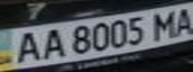0: (109, 17, 133, 50), (90, 20, 112, 52)
5: (124, 12, 154, 46)
8: (66, 22, 93, 55)
A: (6, 29, 45, 64), (36, 26, 69, 60), (166, 4, 193, 36)
M: (148, 8, 184, 39)
